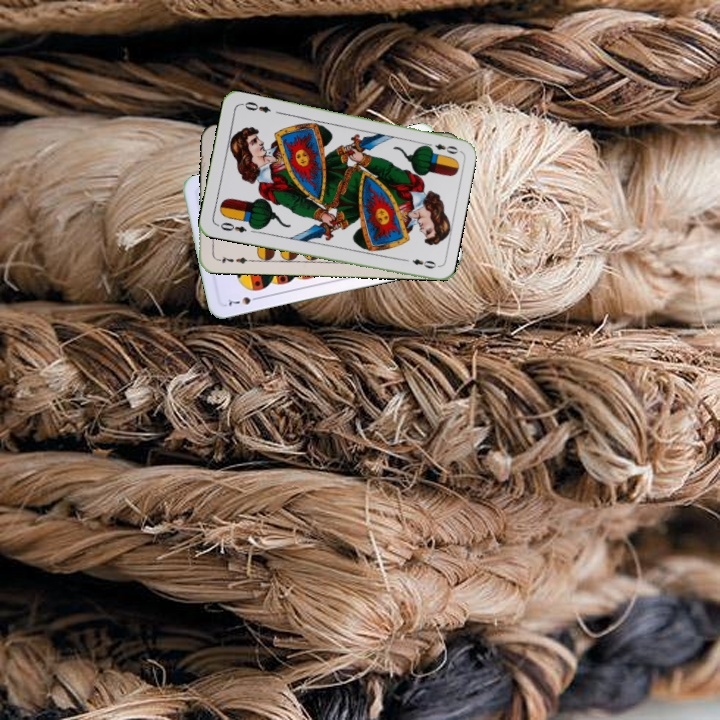E7: (213, 252, 253, 266)
EO: (421, 139, 461, 157), (213, 218, 249, 236)
S7: (224, 293, 263, 308)
